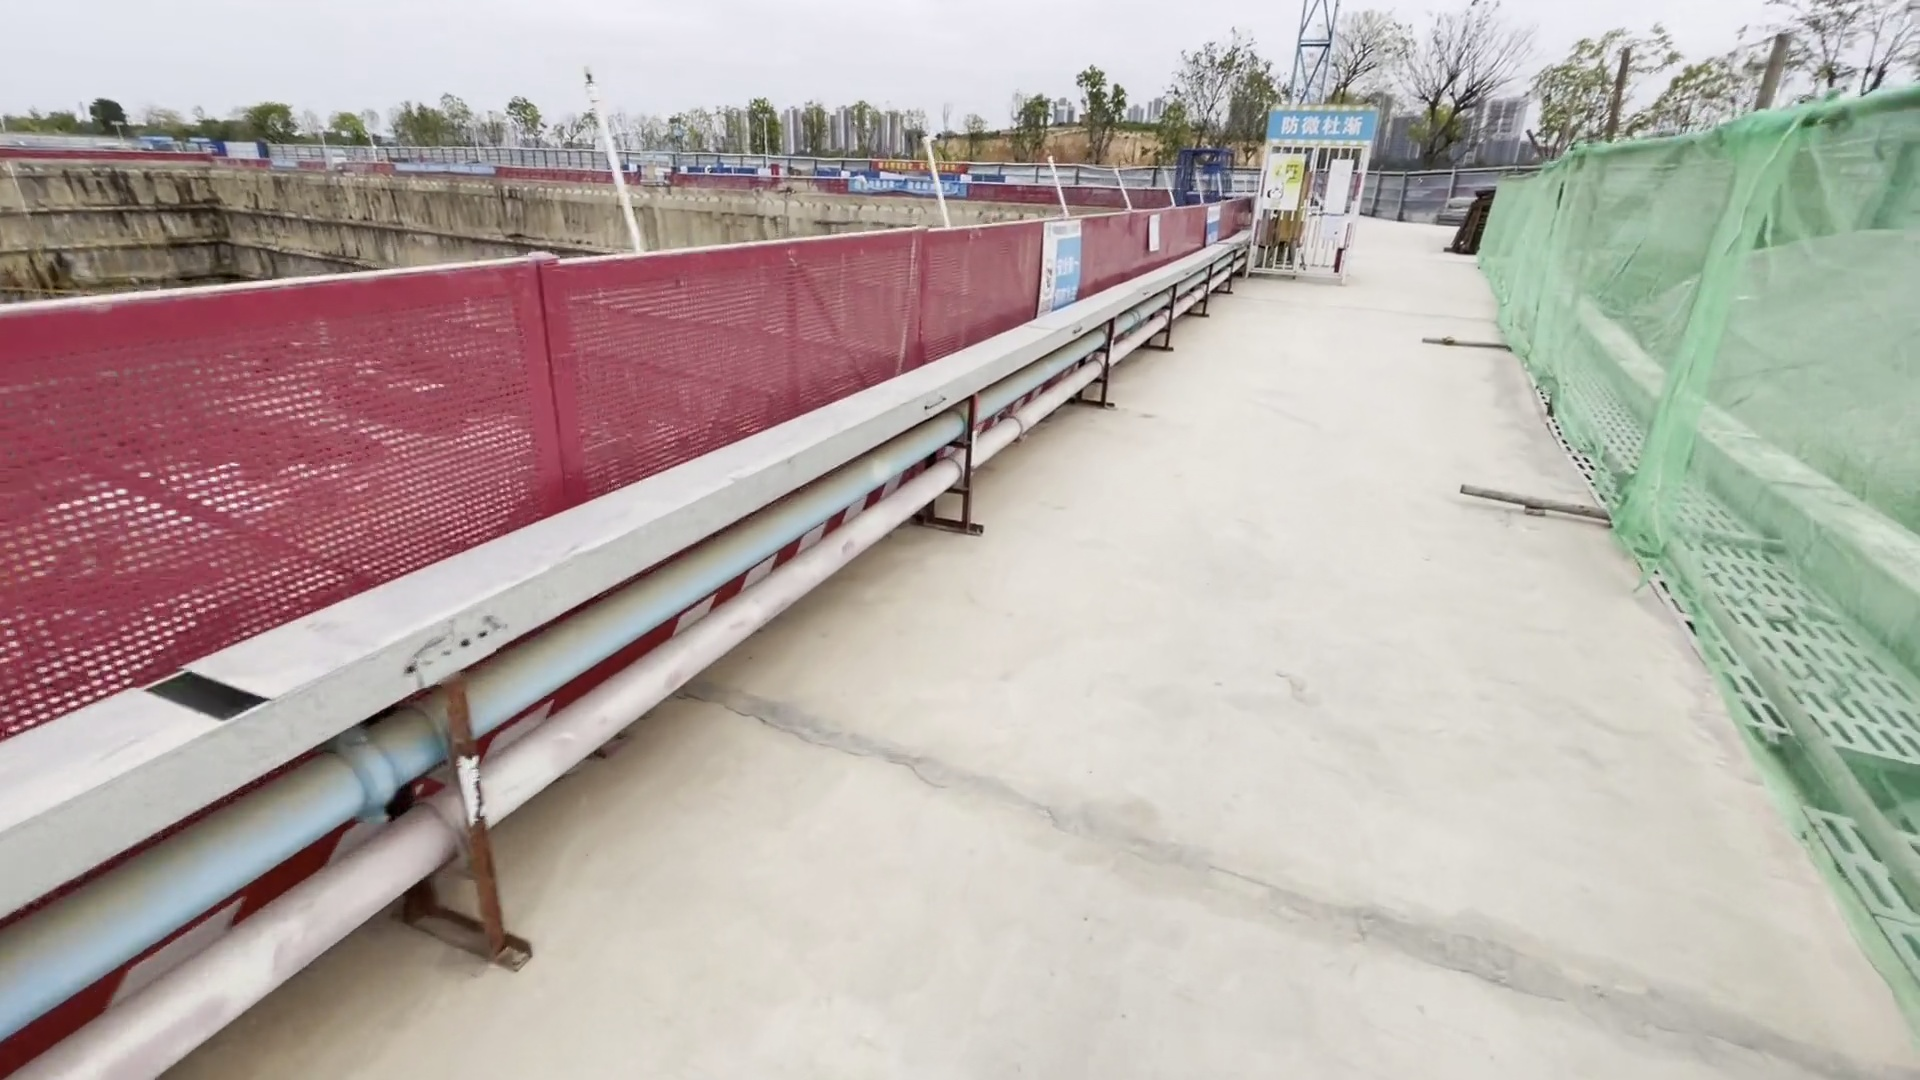fence: (1, 208, 1228, 746)
slogan: (869, 160, 963, 202), (1276, 103, 1371, 138), (1051, 251, 1092, 306)
